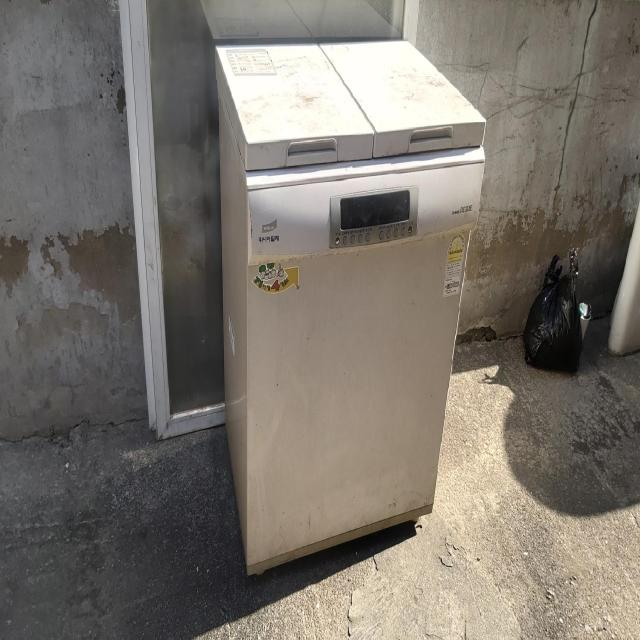refrigerator: (214, 38, 488, 578)
